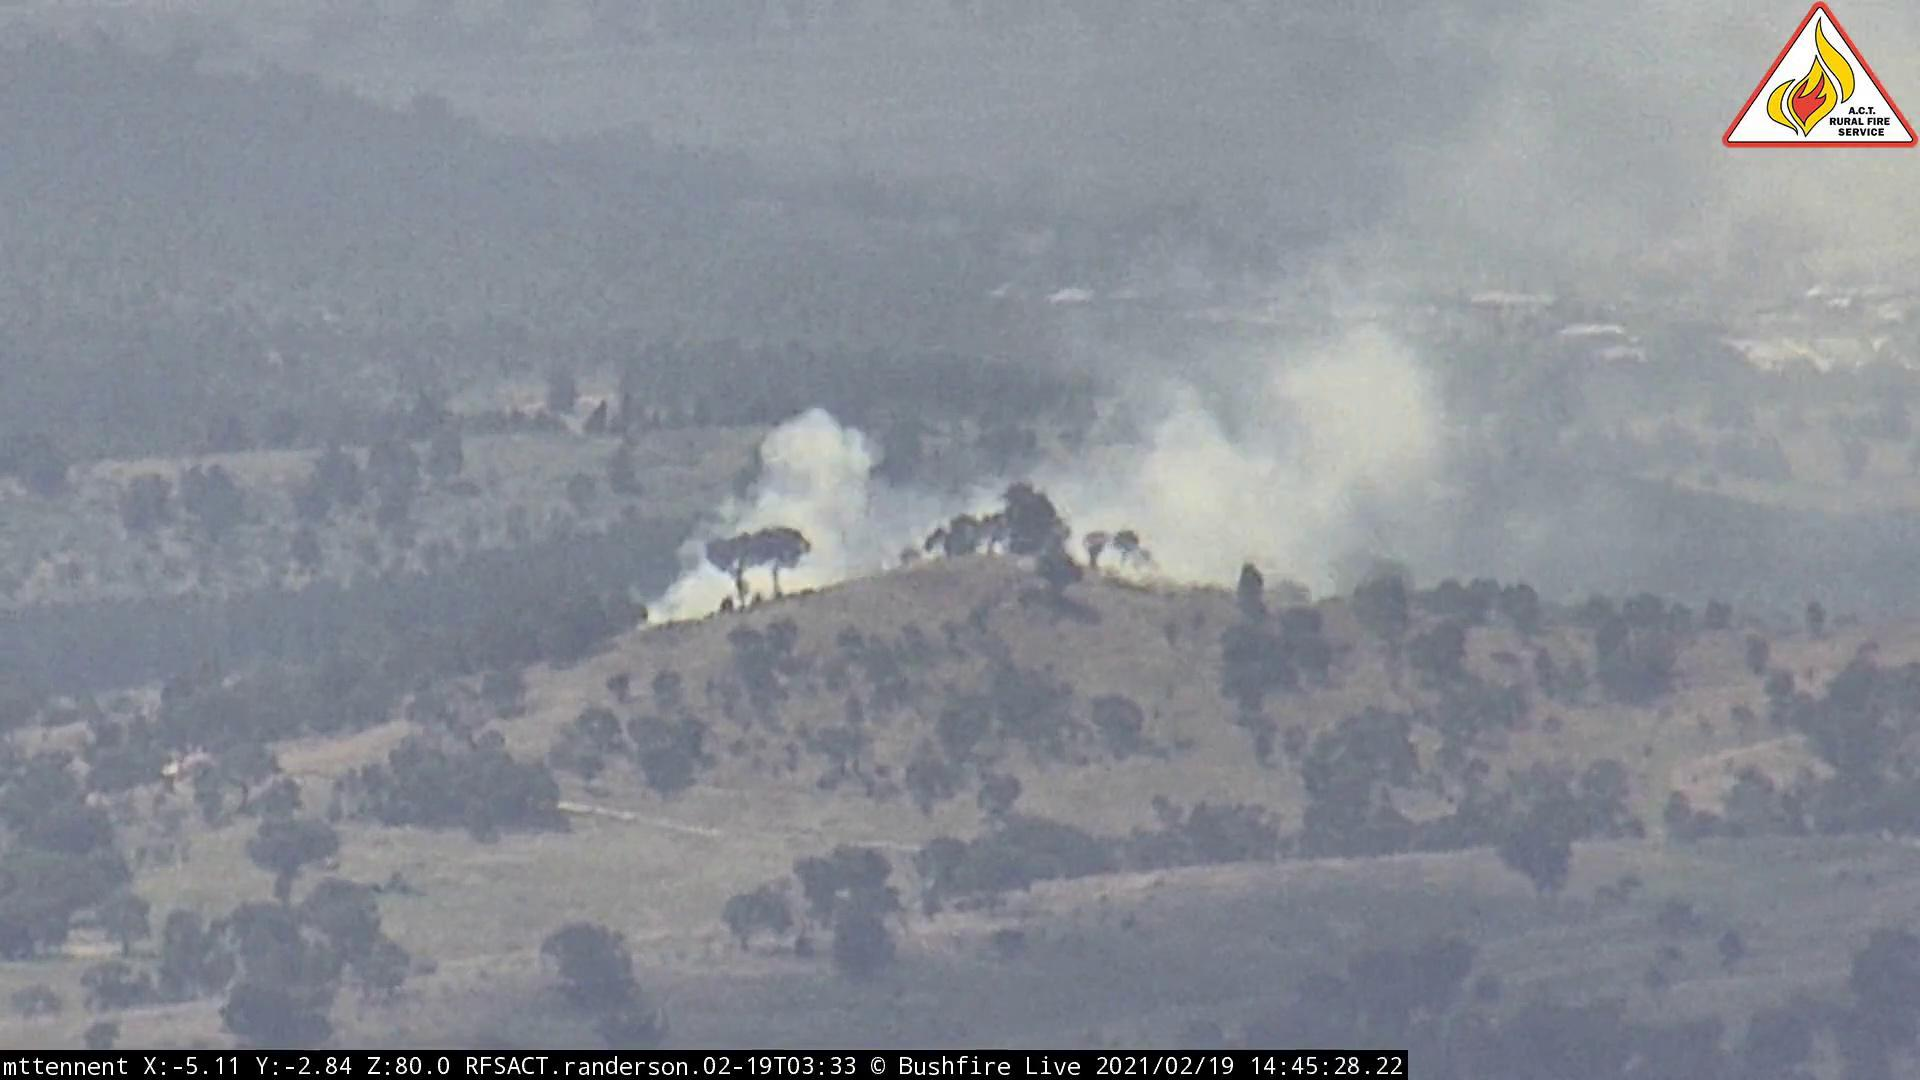Smoke: (632, 175, 1575, 649)
